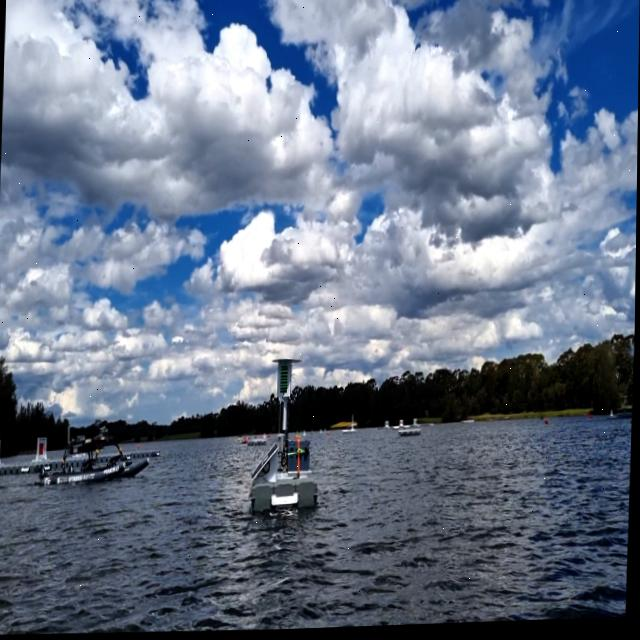led: (279, 364, 292, 398)
